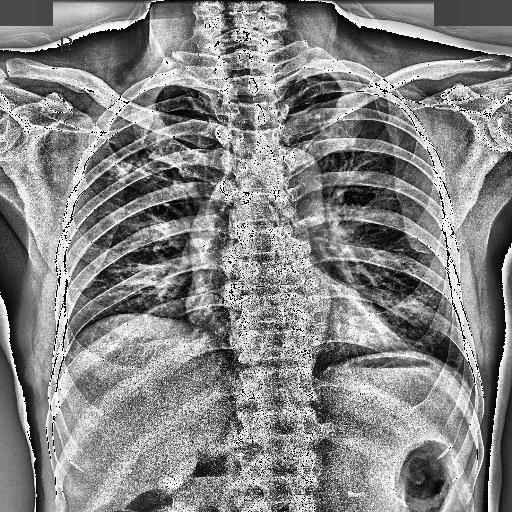13- Pulmonary fibrosis: (96, 147, 176, 187), (104, 154, 188, 192), (110, 160, 170, 181)
